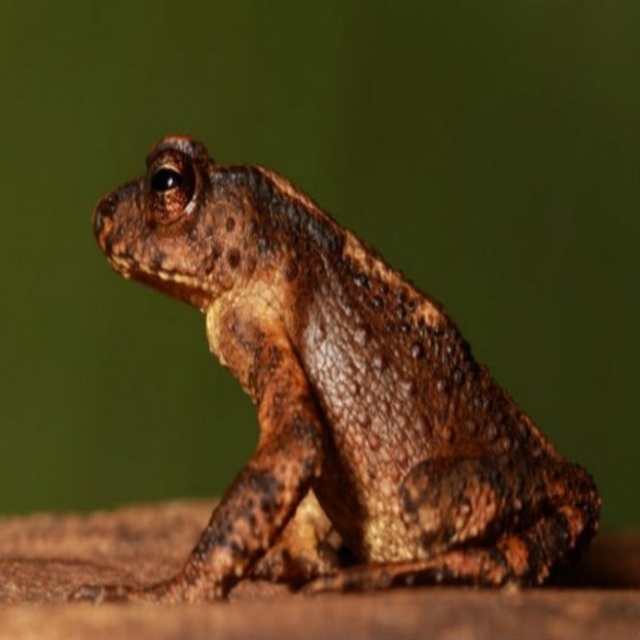Frog: (68, 131, 598, 599)
